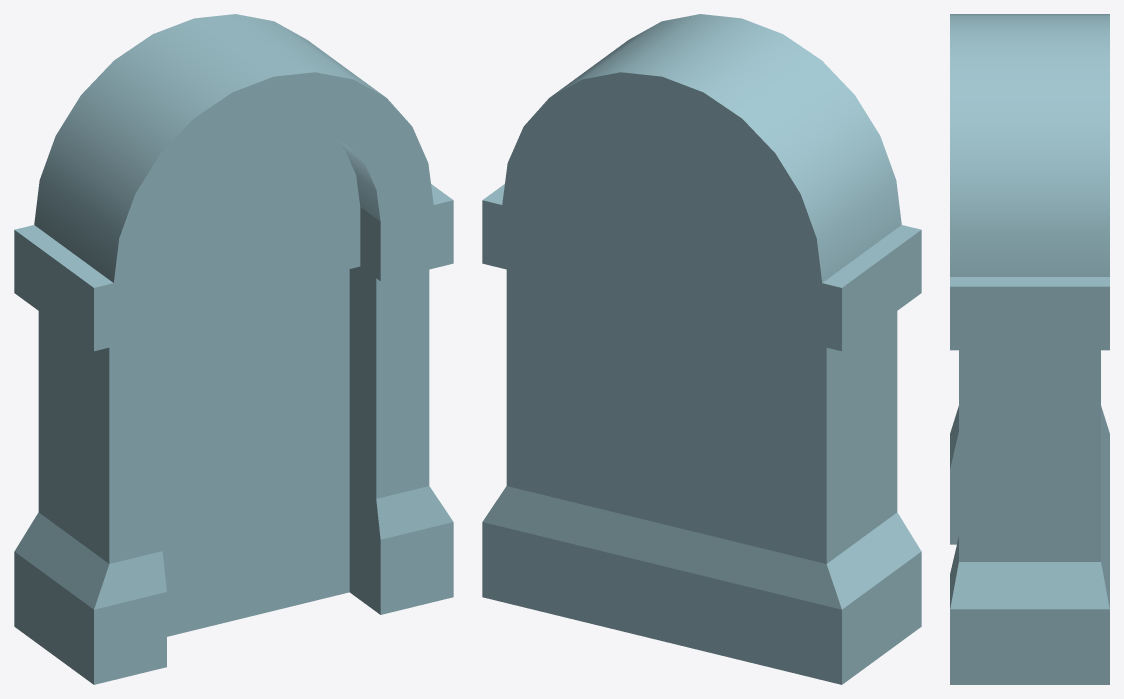
File: gravestoneRound.dae
The picture shows the model from 3 angles, left to right: view 1: azimuth 30°, elevation 25°; view 2: azimuth 150°, elevation 25°; view 3: azimuth 270°, elevation 25°; orthographic projection.
Parts seen in each view (by area): view 1: gravestoneRound; view 2: gravestoneRound; view 3: gravestoneRound.
Part boxes in pixels (<box>): gravestoneRound: <box>14,14,453,684</box>; gravestoneRound: <box>482,14,921,684</box>; gravestoneRound: <box>950,14,1109,684</box>.
Bounding box in the file's own units: 0.39 × 0.585 × 0.1495.
